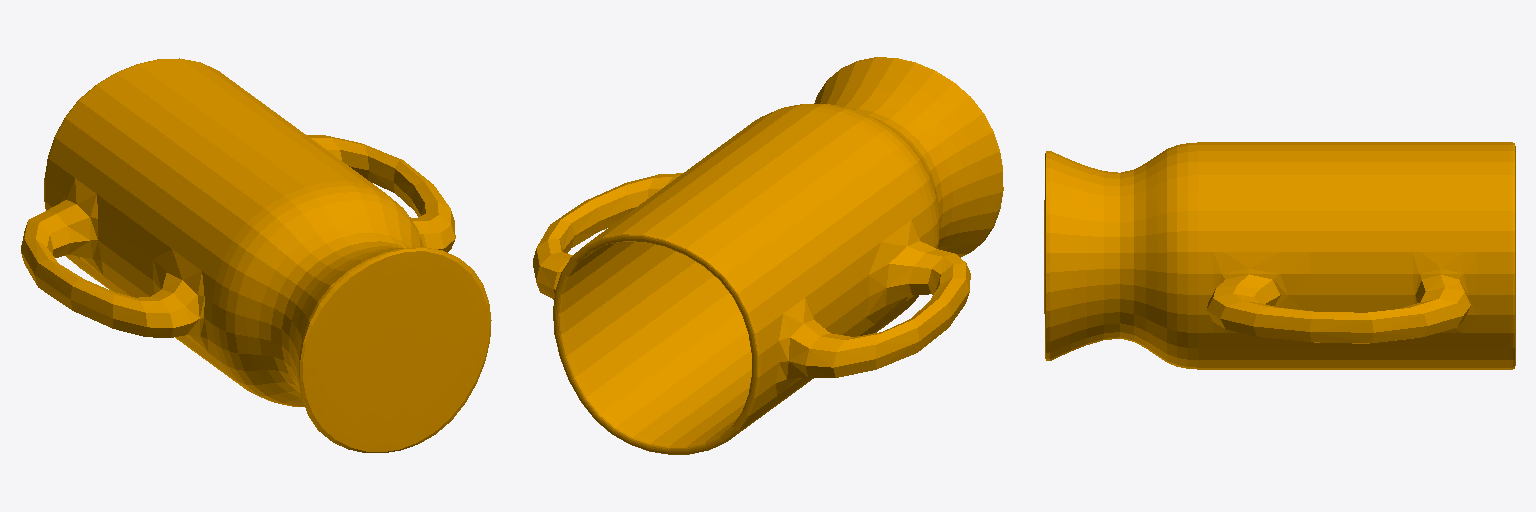
The robot description file, URDF, robot "280":
<?xml version="1.0" ?>
<robot name="280">
  <link name="body">
    <visual>
      <geometry>
        <mesh filename="../shapes/280.obj"/>
      </geometry>
    </visual>
    <collision>
      <geometry>
        <mesh filename="../shapes/280.obj"/>
      </geometry>
    </collision>
  </link>
</robot>

--- Facts derived from the render (not from the file) ---
The picture shows the robot from 3 angles, left to right: view 1: azimuth 30°, elevation 25°; view 2: azimuth 150°, elevation 25°; view 3: azimuth 270°, elevation 25°; orthographic projection.
Robot: 280 — 1 links, 0 joints (none); root link body; default pose: every joint at zero.
Visible links, largest first — view 1: body; view 2: body; view 3: body.
Link boxes in pixels (x1,y1,x2,y2): body: (21, 58, 491, 452); body: (533, 57, 1003, 454); body: (1044, 142, 1515, 369).
Bounding box of the posed robot: 4.36 × 5.13 × 2.42 m (x, y, z).
Meshes: 1 distinct files referenced, 1 mesh visuals loaded (1 OBJ).